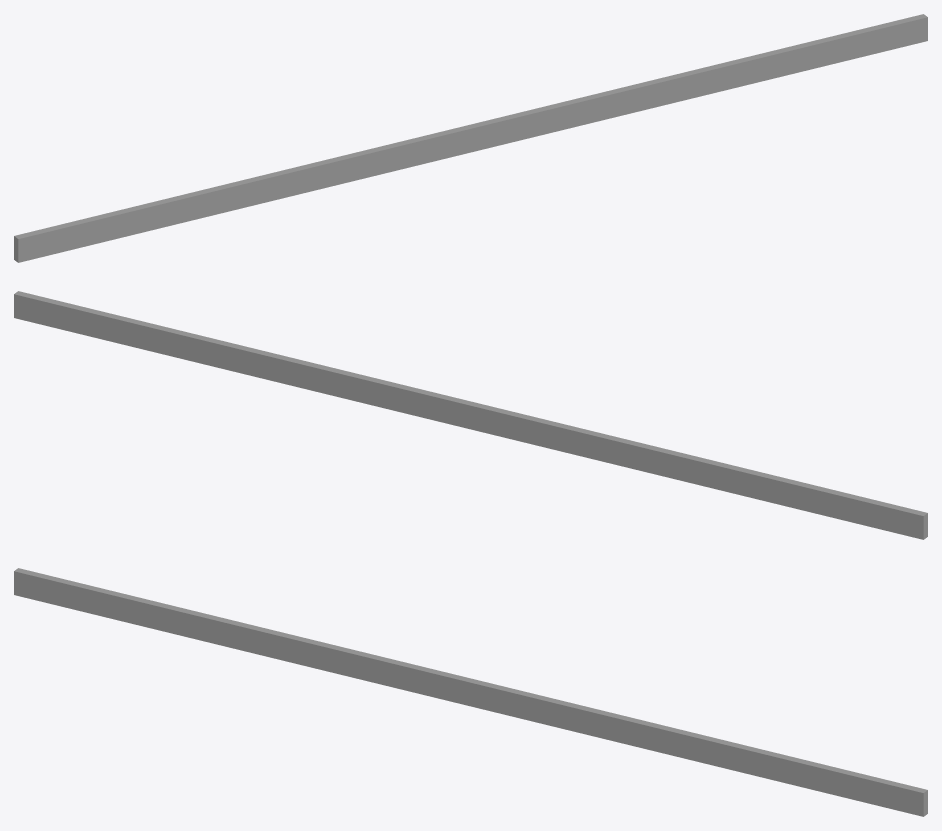
File: plintus.002_0_lev1_lev3.glb
3 views of the same model, one above another, from view 1: azimuth 30°, elevation 25°; view 2: azimuth 150°, elevation 25°; view 3: azimuth 330°, elevation 25° (orthographic).
Parts seen in each view (by area): view 1: plintus.002_0_lev1_lev3; view 2: plintus.002_0_lev1_lev3; view 3: plintus.002_0_lev1_lev3.
Part boxes in pixels (x1,y1,x2,y2): plintus.002_0_lev1_lev3: (14,14,927,262); plintus.002_0_lev1_lev3: (14,291,927,539); plintus.002_0_lev1_lev3: (14,568,927,816).
Size of the model in its own units: 8.97 by 0.2242 by 0.0747.
Materials: 1 (1 with a texture image).
